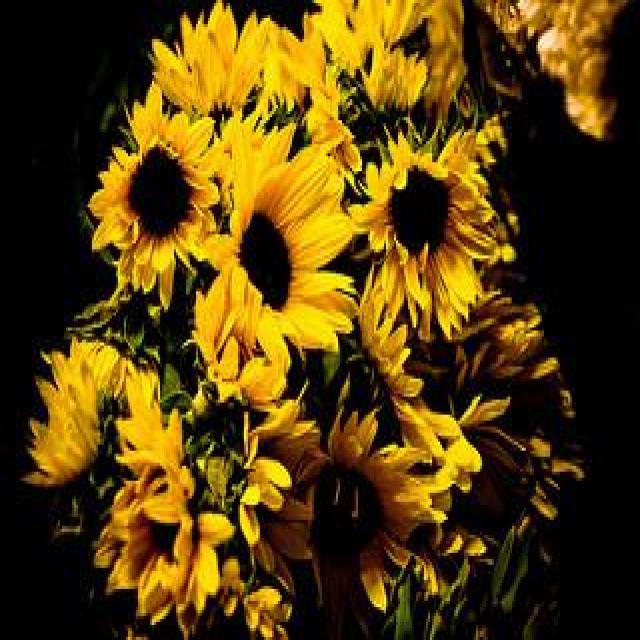sunflower: (202, 122, 354, 367), (351, 123, 497, 340), (89, 78, 219, 310), (354, 265, 479, 471), (94, 447, 234, 628), (319, 402, 431, 613), (274, 13, 364, 170), (238, 404, 324, 562), (149, 0, 267, 112), (196, 272, 288, 404), (21, 357, 96, 489), (73, 330, 160, 412), (362, 42, 429, 114)
